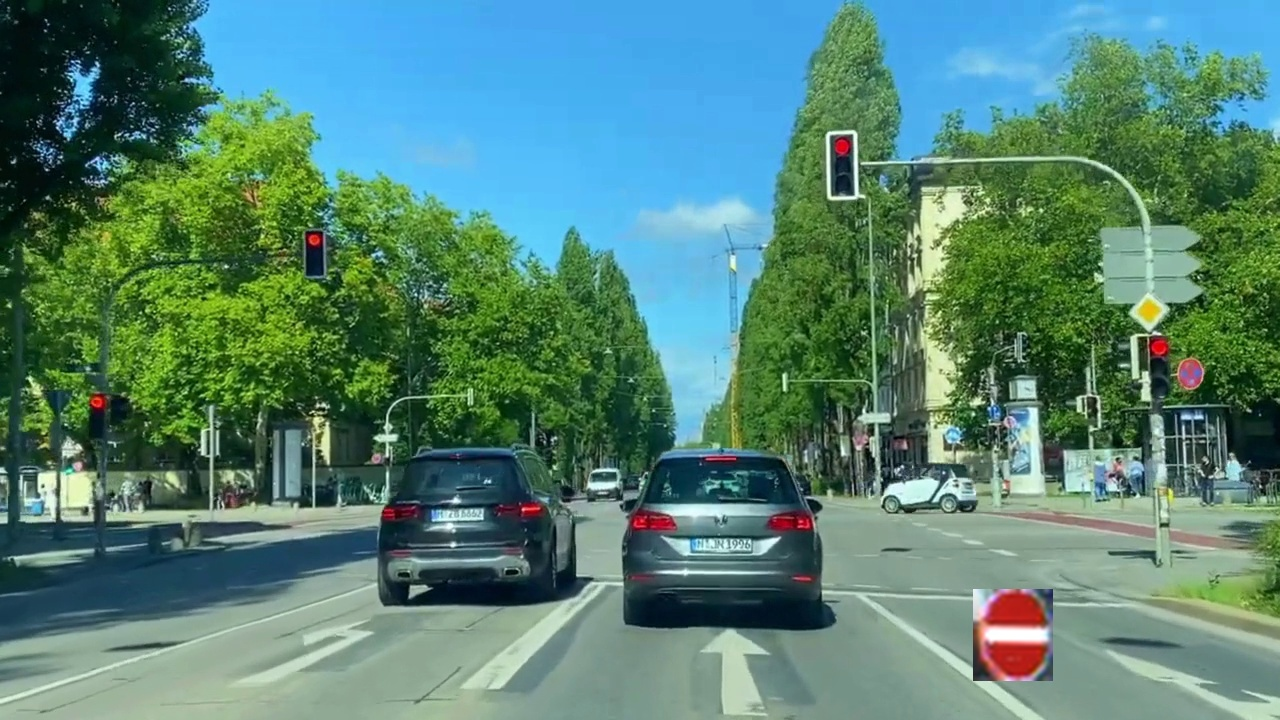No entry: (973, 589, 1053, 681)
